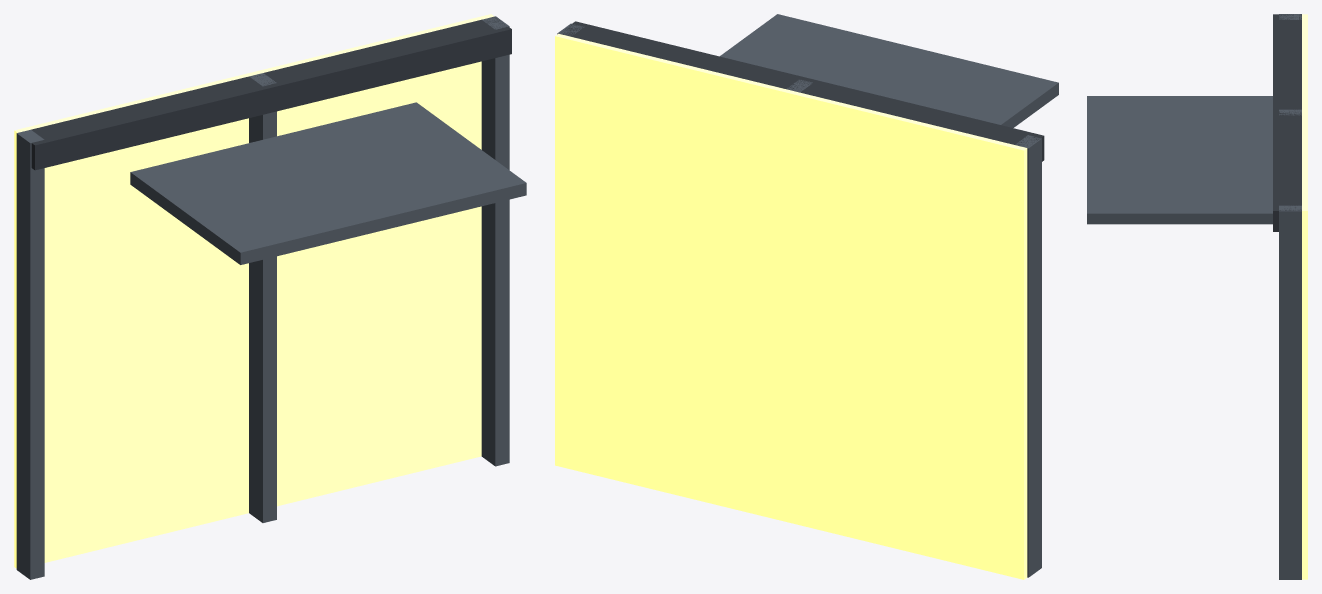
The model's file is cg_lobby.glb.
3 renders of one model, left to right at view 1: azimuth 30°, elevation 25°; view 2: azimuth 150°, elevation 25°; view 3: azimuth 270°, elevation 25°, orthographic. The views are drawn at different scales.
Visible parts, largest first — view 1: city_cg_lobby; view 2: city_cg_lobby; view 3: city_cg_lobby.
Part boxes in pixels (<box>): city_cg_lobby: <box>14,14,526,579</box>; city_cg_lobby: <box>555,14,1058,579</box>; city_cg_lobby: <box>1087,14,1307,579</box>.
Bounding box in the file's own units: 4.02 × 3.5 × 1.9.
2 materials, 2 textured.
